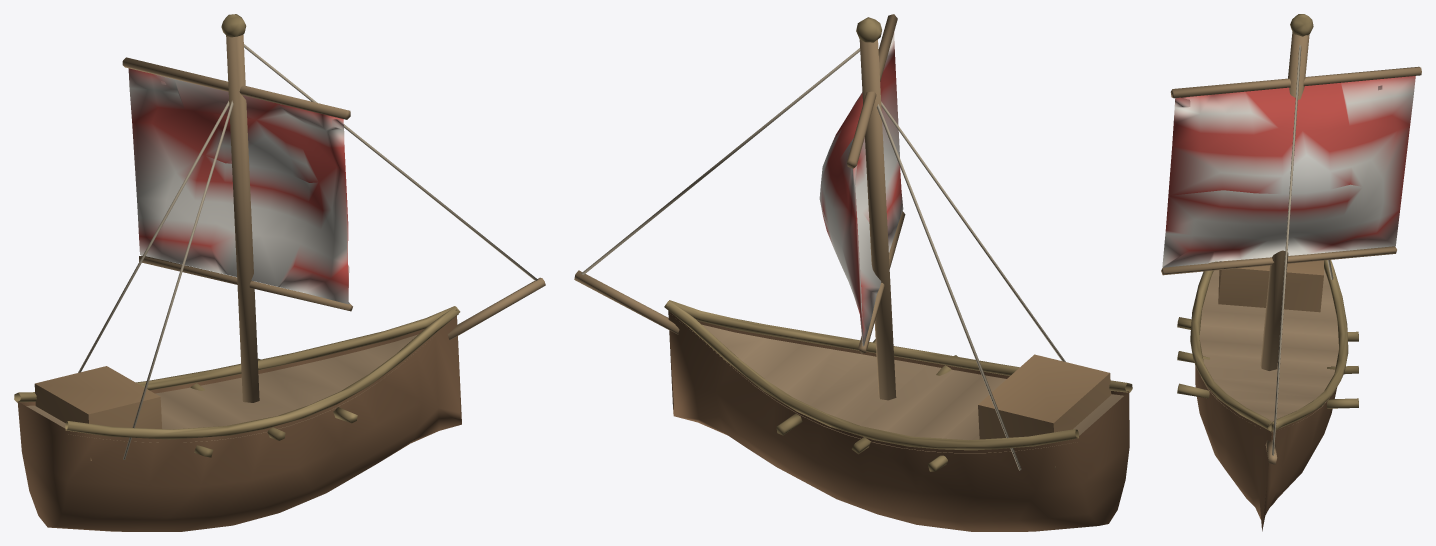
The model's file is live_raiders.glb.
3 renders of one model, left to right at view 1: azimuth 30°, elevation 25°; view 2: azimuth 150°, elevation 25°; view 3: azimuth 270°, elevation 25°, orthographic. The views are drawn at different scales.
Visible parts, largest first — view 1: SeaPropDetails; view 2: SeaPropDetails; view 3: SeaPropDetails.
Boxes of the visible parts, x1,y1,x2,y2 form: SeaPropDetails: (14, 14, 545, 531); SeaPropDetails: (574, 14, 1132, 531); SeaPropDetails: (1161, 14, 1421, 531).
Size of the model in its own units: 1.4 by 1.28 by 0.6619.
